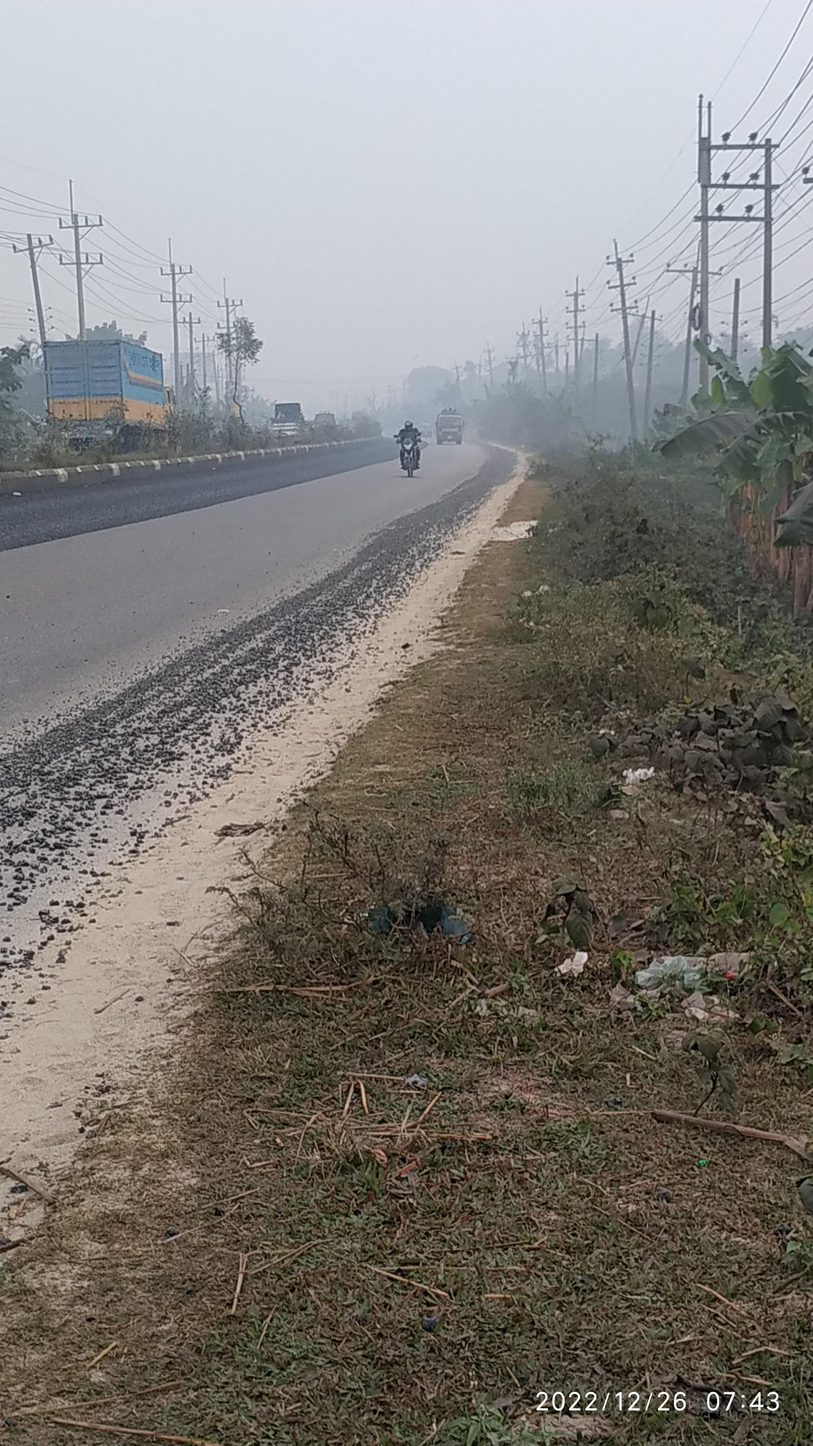Bike: (381, 411, 432, 485)
Truck: (38, 325, 193, 453), (430, 405, 476, 455)
